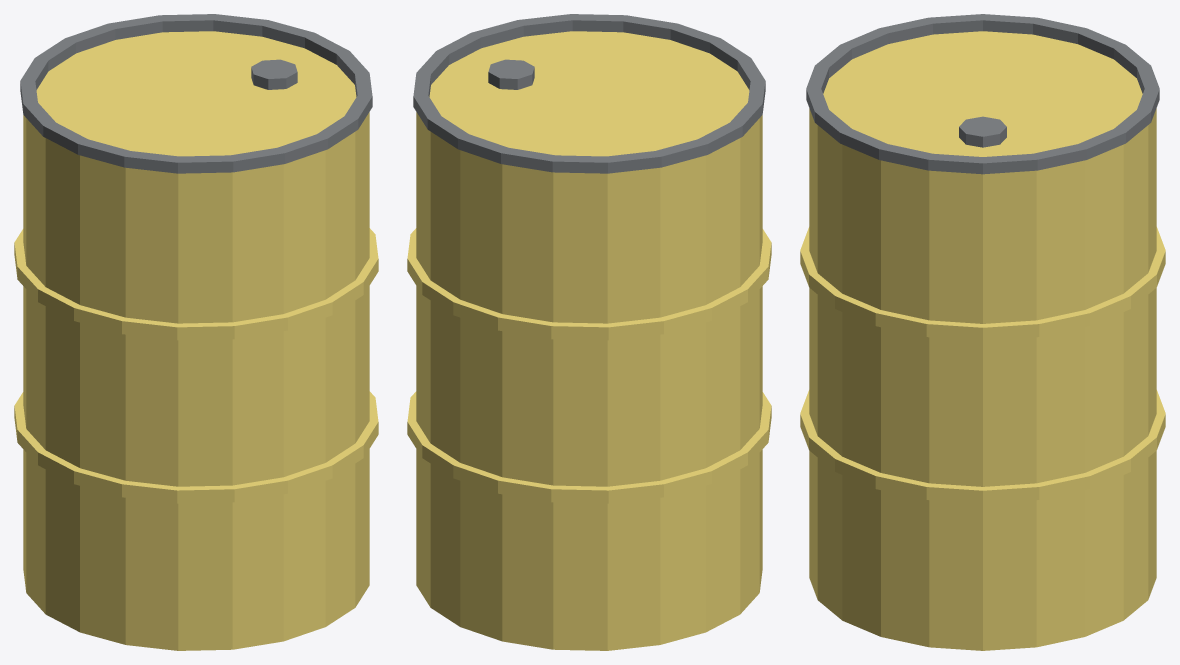
Rendered from drum_y.glb.
The picture shows the model from 3 angles, left to right: view 1: azimuth 30°, elevation 25°; view 2: azimuth 150°, elevation 25°; view 3: azimuth 270°, elevation 25°; orthographic projection.
Parts seen in each view (by area): view 1: drum_y_paint_y, drum_y_steel_d; view 2: drum_y_paint_y, drum_y_steel_d; view 3: drum_y_paint_y, drum_y_steel_d.
Part boxes in pixels (x1,y1,x2,y2): drum_y_paint_y: [14, 31, 378, 650]; drum_y_steel_d: [20, 14, 372, 173]; drum_y_paint_y: [407, 31, 771, 650]; drum_y_steel_d: [413, 14, 765, 173]; drum_y_paint_y: [800, 31, 1165, 650]; drum_y_steel_d: [806, 14, 1159, 174].
Size of the model in its own units: 0.61 by 0.9 by 0.61.
